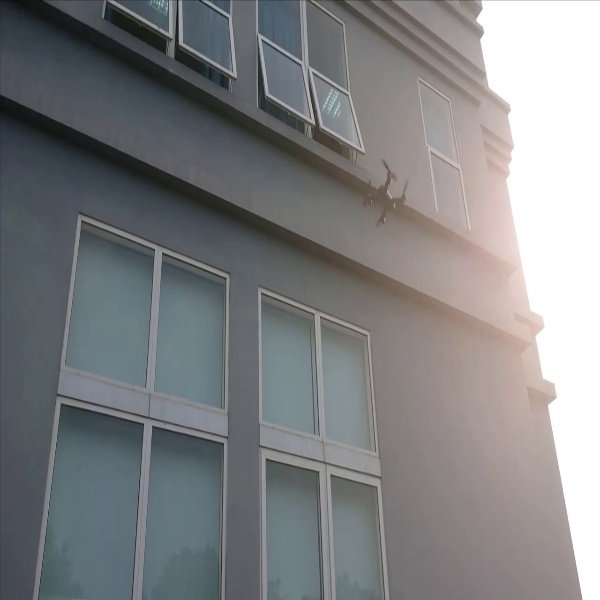drone: (350, 159, 415, 235)
